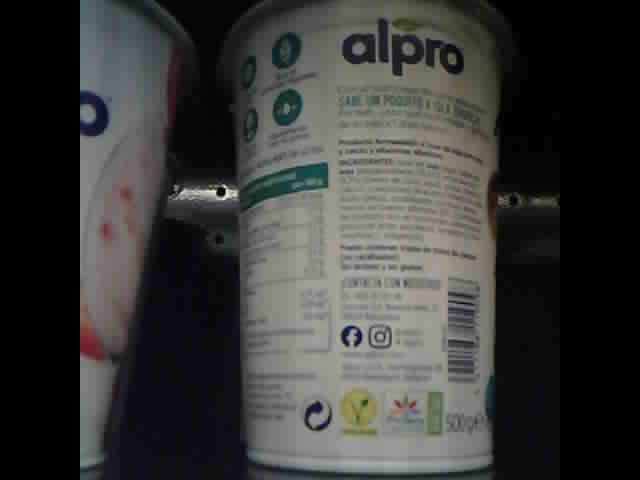alpro: (219, 1, 512, 475), (81, 1, 196, 471)
